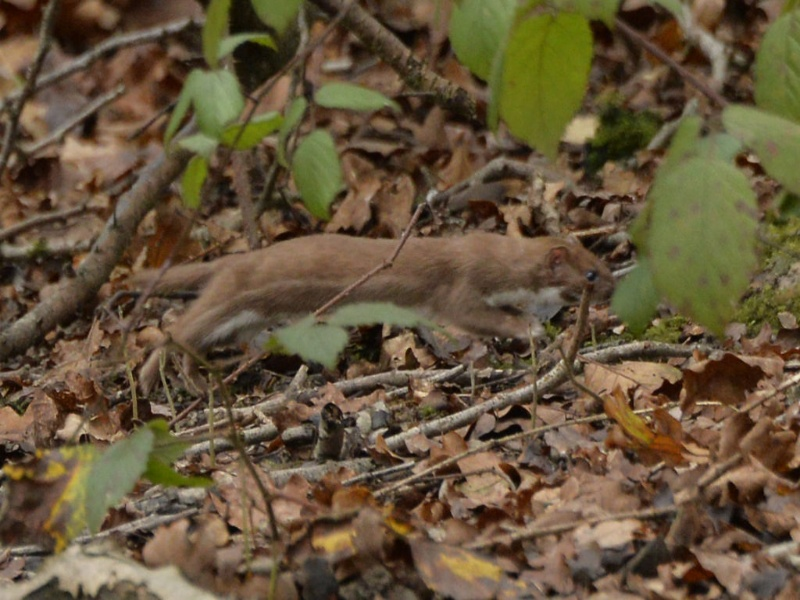minkish: (169, 230, 626, 368)
